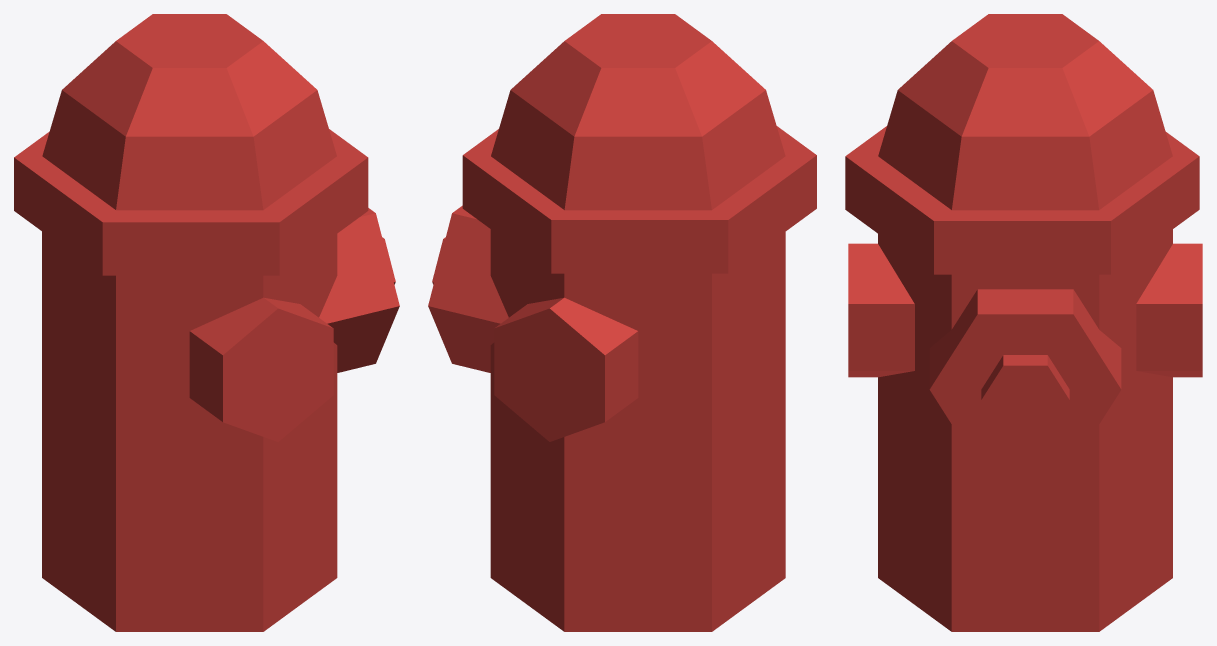
The model's file is fireHydrant.fbx.
3 views of the same model, side by side, from view 1: azimuth 30°, elevation 25°; view 2: azimuth 150°, elevation 25°; view 3: azimuth 270°, elevation 25° (orthographic).
Parts seen in each view (by area): view 1: Sphere; view 2: Sphere; view 3: Sphere.
Boxes of the visible parts, x1,y1,x2,y2 form: Sphere: (14,14,399,631); Sphere: (428,14,816,631); Sphere: (845,14,1202,631).
Bounding box in the file's own units: 121 × 201 × 124.
